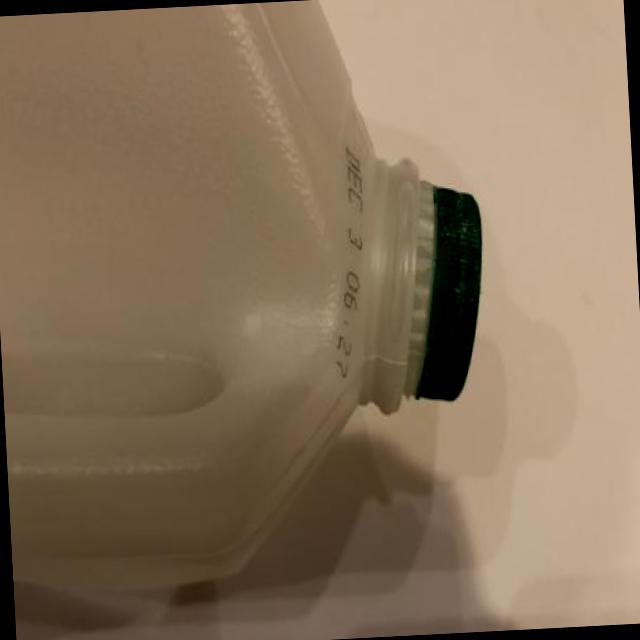Recycle: (0, 0, 499, 594)
